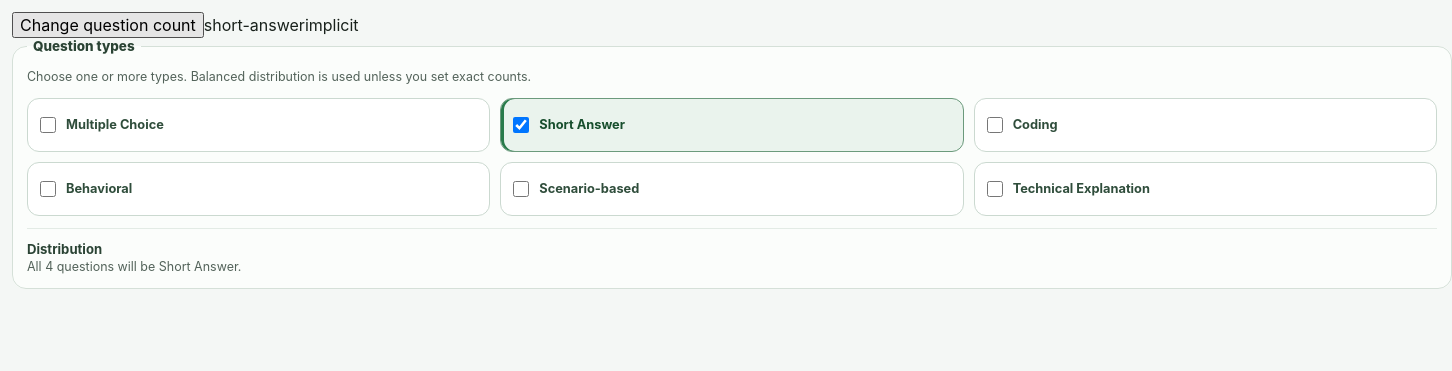
Test: InterviewQuestionTypeControls › clears exact-count state when the selection returns to one type
What coordinates should you click on to do the following:
click the checkbox labelled "Coding"
I would click on:
 (995, 125)
Its box is [987,117,1003,133].
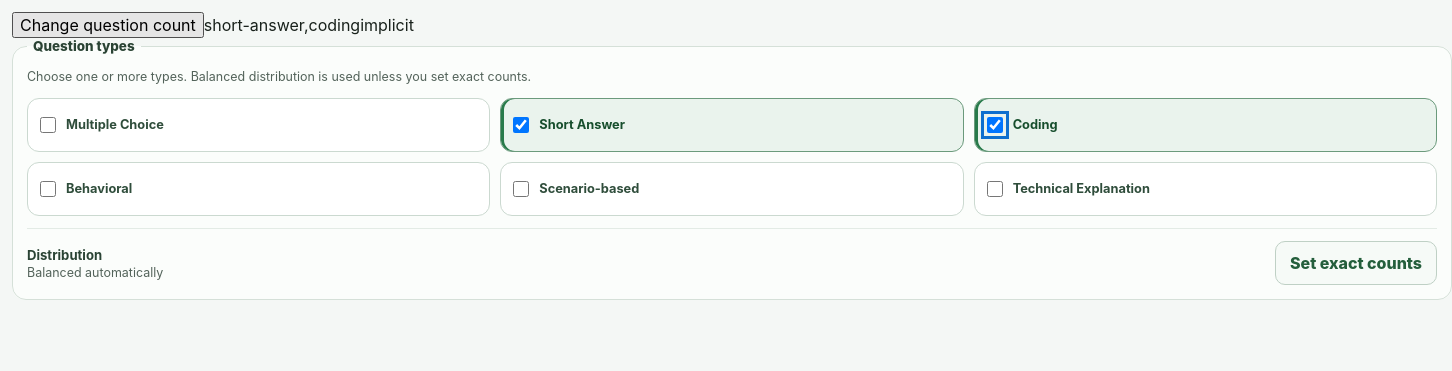
Check: the text "Balanced automatically" is shown, box [27,265,163,280]
Check: the button "Set exact counts" is shown
What coordinates should you click on to do the following:
click the button "Set exact counts"
I would click on:
 (1356, 263)
Its box is [1275,241,1437,285].
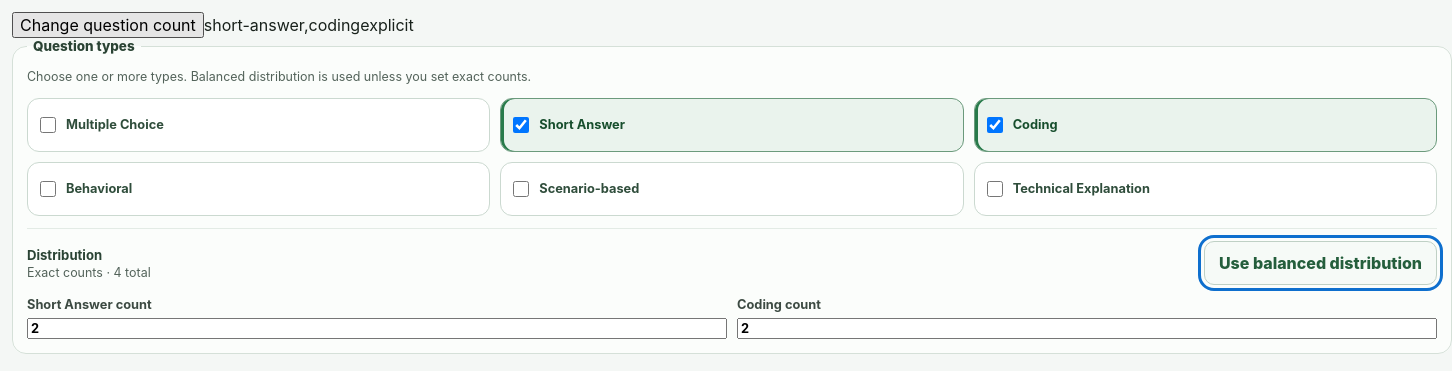
Check: the text named "Distribution mode" reads "explicit", box [360,15,414,35]
Check: the number field labelled "Short Answer count" is shown, box [27,318,727,339]
Check: the number field labelled "Coding count" is shown, box [737,318,1437,339]
What coordinates should you click on to do the following:
click the checkbox labelled "Coding"
I would click on:
 (995, 125)
Its box is [987,117,1003,133].
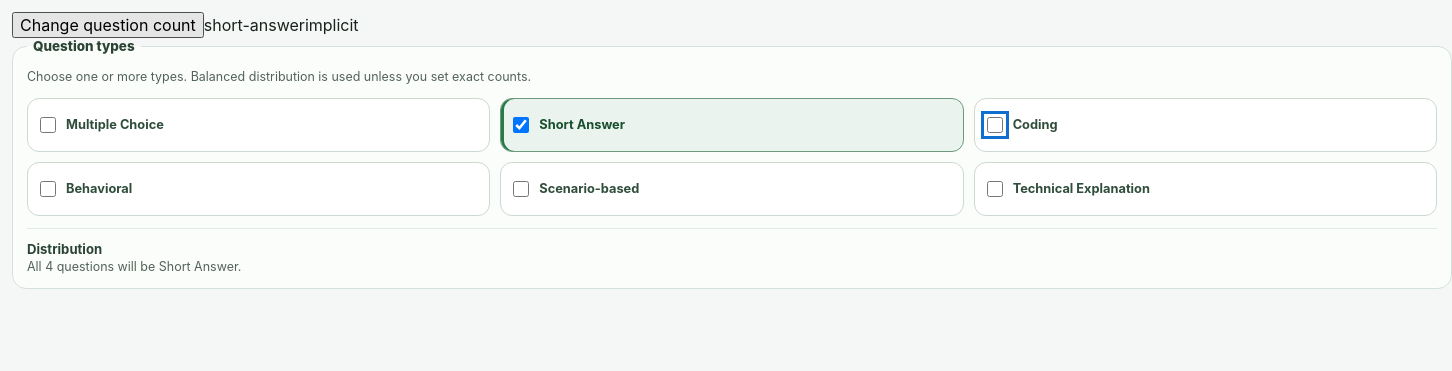
Check: the text named "Distribution mode" reads "implicit", box [305,15,359,35]
Check: the text "All 4 questions will be Short Answer." is shown, box [27,259,241,274]
Check: the button "Use balanced distribution" is gone
